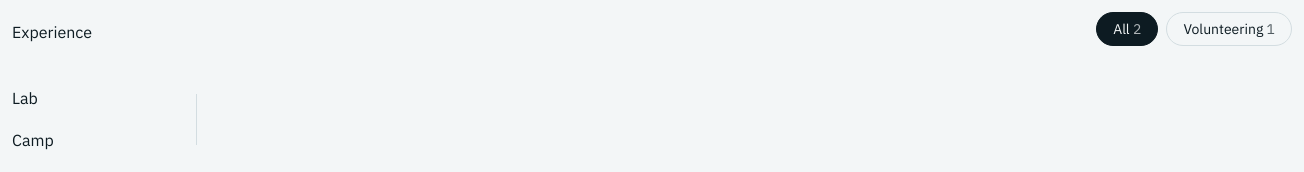
Test case: ExperienceFilter › marks the chosen filter and sets it on the list for the CSS to dim the rest
Click the button "Volunteering 1": (1229, 29) [1166,12,1292,46]
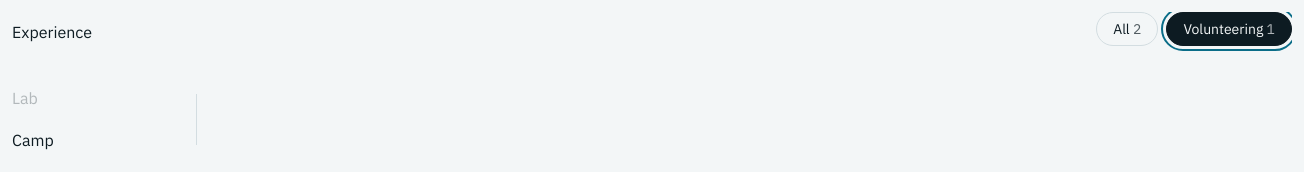
Expected: the button "Volunteering 1" is pressed, [1166,12,1292,46]
Expected: the button "All 2" is not pressed, [1096,12,1158,46]
Expected: the list has attribute data-filter="vol", [12,88,54,150]
